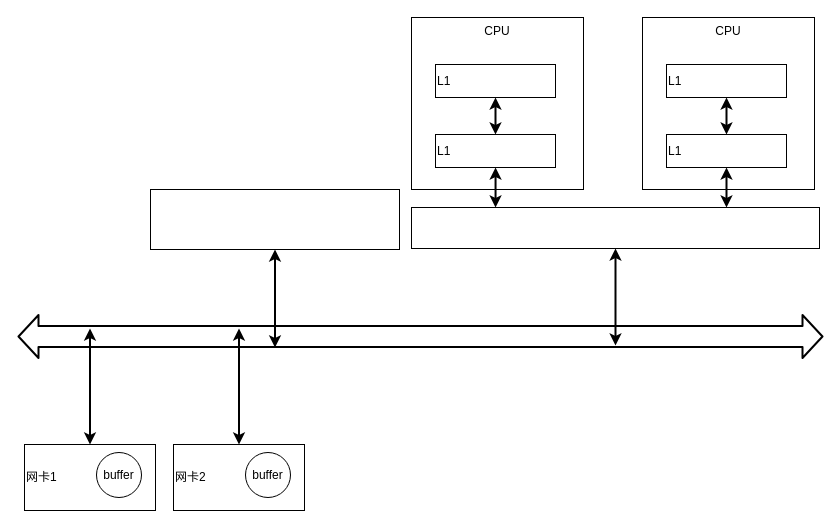
The diagram is 840 pixels wide and 528 high, and some of its shapes have lost their labels. Here are the shapes that lost their labels. From the top down, the centre of each, then its label:
At point (275, 219): "RAM 主存储器".
At point (615, 227): "L3".
